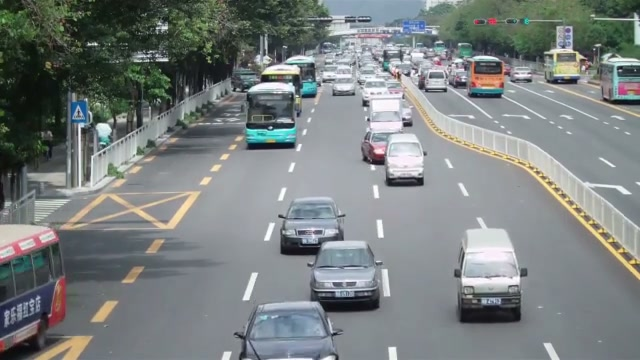bus: (1, 223, 68, 354), (245, 81, 298, 149), (260, 63, 303, 110), (599, 56, 640, 103), (466, 55, 505, 97), (284, 55, 318, 97), (543, 49, 582, 84)
car: (453, 228, 527, 322), (233, 301, 344, 360), (307, 239, 386, 310), (276, 196, 346, 254), (383, 133, 426, 186), (360, 129, 402, 163), (361, 80, 389, 106), (423, 70, 448, 93), (331, 76, 356, 96), (510, 66, 533, 82)
truck: (543, 49, 582, 84)
